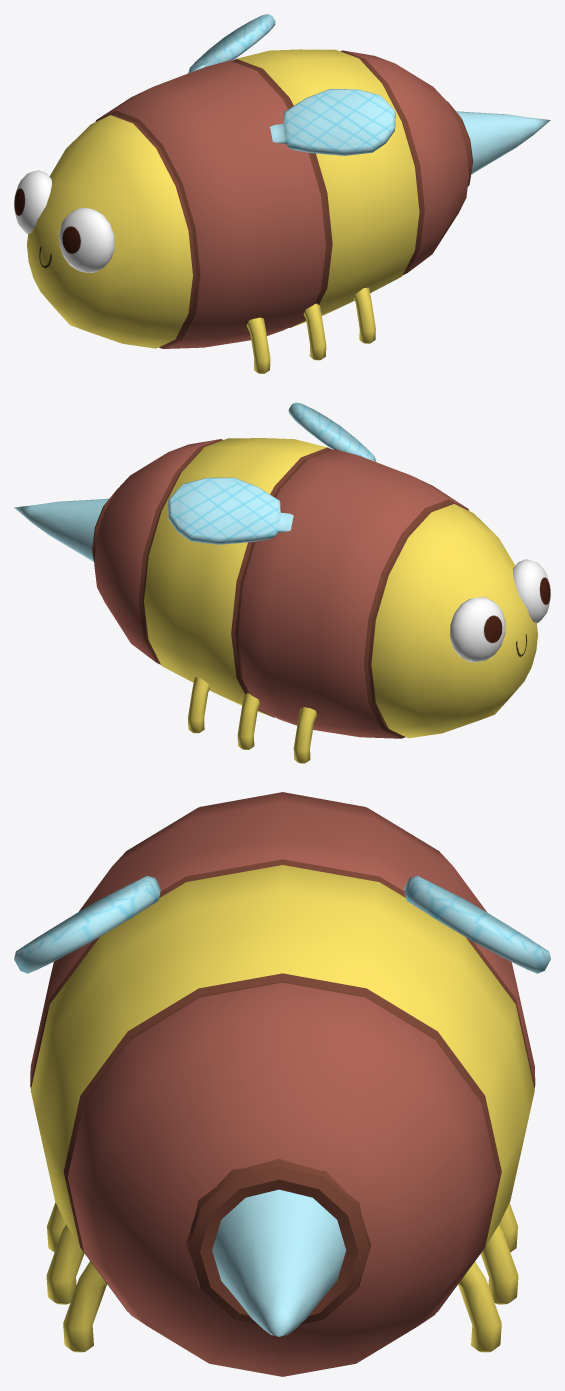
The model's file is Me_Bee01-01.fbx.
3 renders of one model, top to bottom at view 1: azimuth 30°, elevation 25°; view 2: azimuth 150°, elevation 25°; view 3: azimuth 270°, elevation 25°, orthographic. The views are drawn at different scales.
Parts seen in each view (by area): view 1: Me_Bee01; view 2: Me_Bee01; view 3: Me_Bee01.
Part boxes in pixels (x1,y1,x2,y2): Me_Bee01: [14, 14, 550, 373]; Me_Bee01: [14, 402, 550, 763]; Me_Bee01: [14, 792, 550, 1376].
Bounding box in the file's own units: 119 × 56.92 × 60.1.
Materials: 1 (1 with a texture image).
